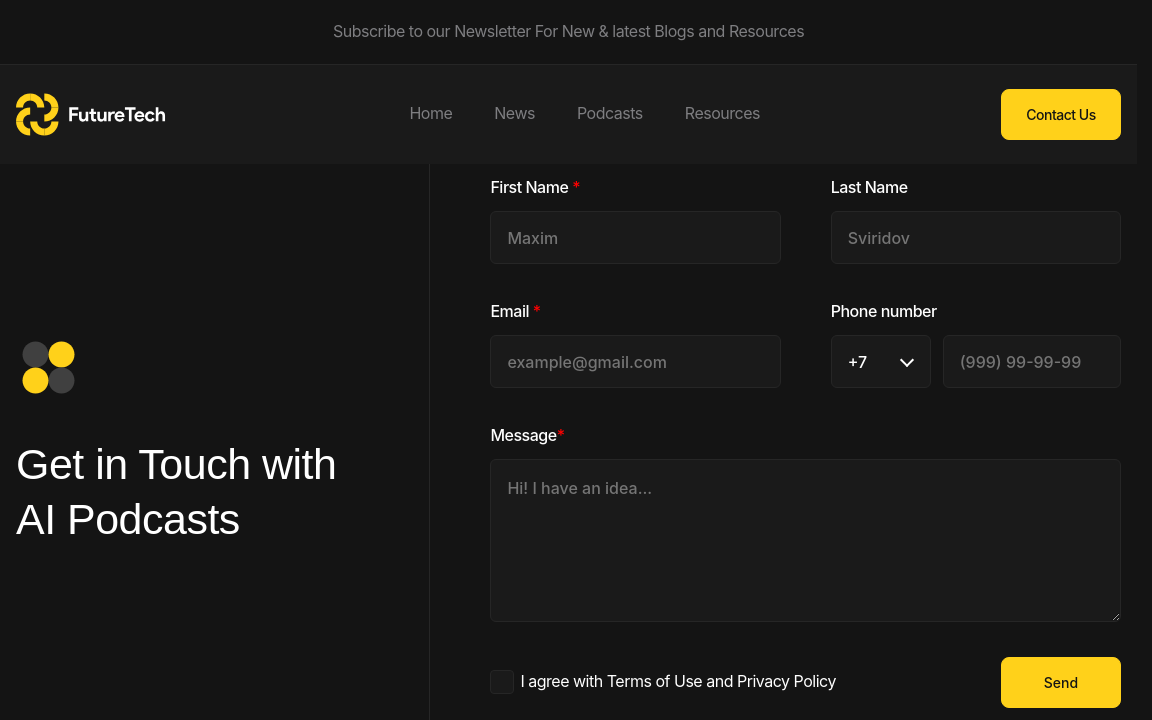
FutureTech application shell › opens the phone prefix list and syncs the selected value
(page scrolled)
Click the dropdown named "phone number prefix": (881, 362) top-left (831, 335), bottom-right (931, 388)
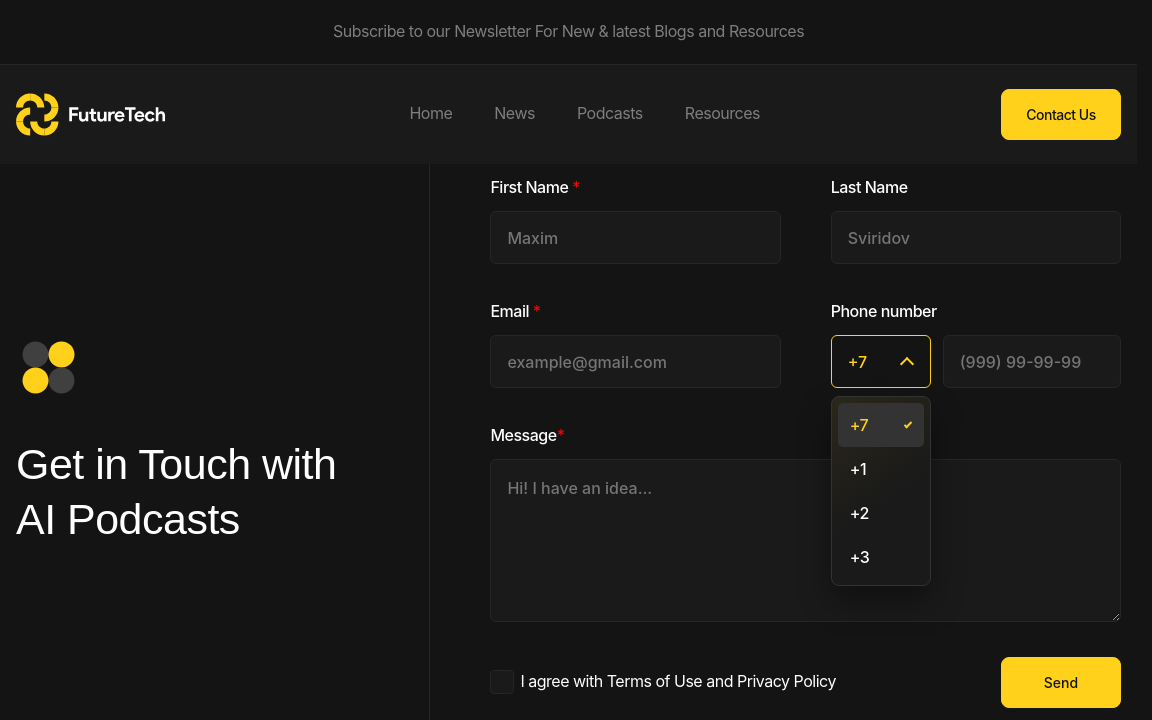
expect the dropdown named "phone number prefix" is expanded: met, box top-left (831, 335), bottom-right (931, 388)
Click the option "+1": (858, 469) top-left (850, 459), bottom-right (866, 479)
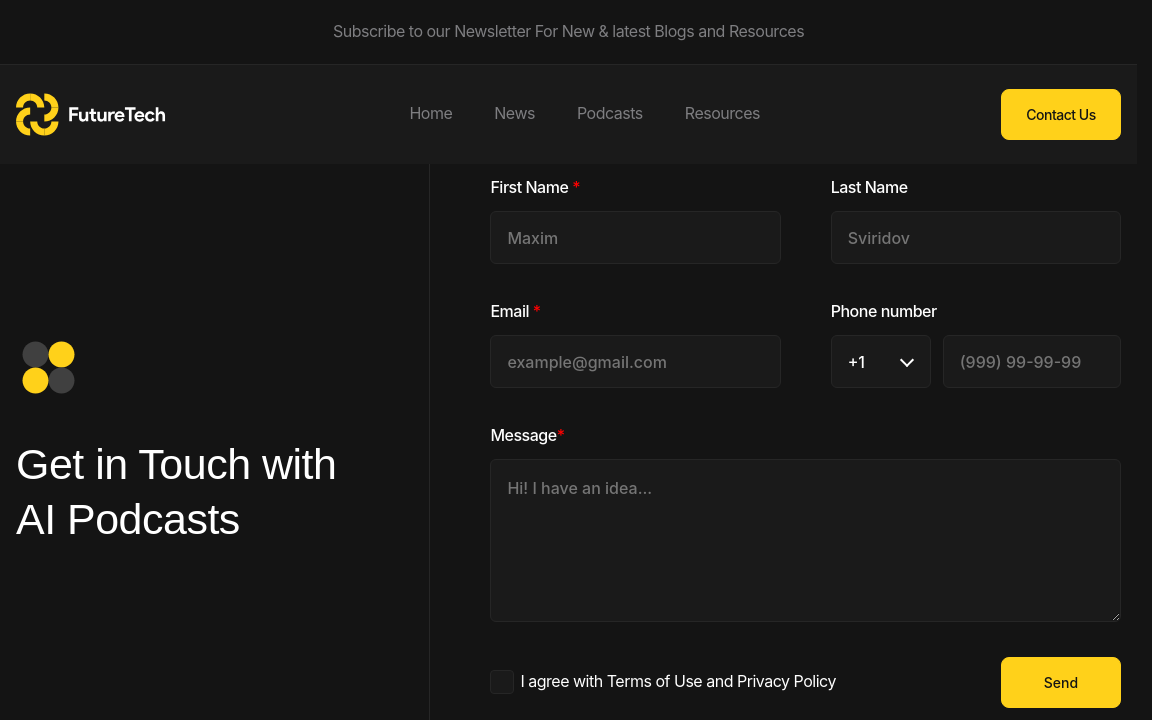
expect the dropdown named "phone number prefix" reads "+1": met, box top-left (831, 335), bottom-right (931, 388)
expect the dropdown named "phone number prefix" is collapsed: met, box top-left (831, 335), bottom-right (931, 388)
